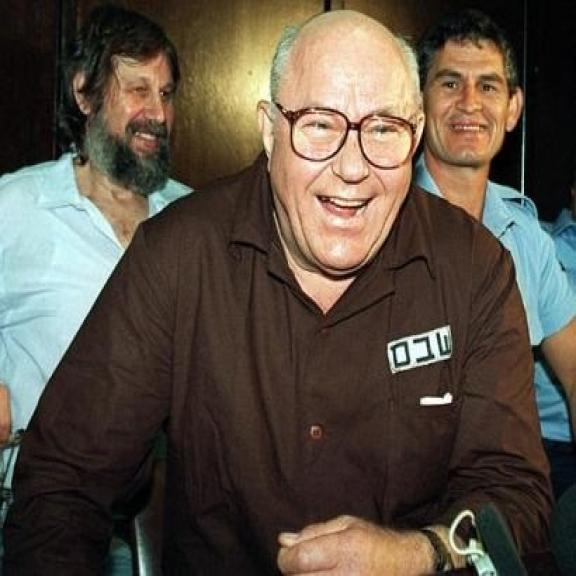face: (250, 30, 426, 279), (65, 29, 176, 190), (421, 26, 529, 171)
